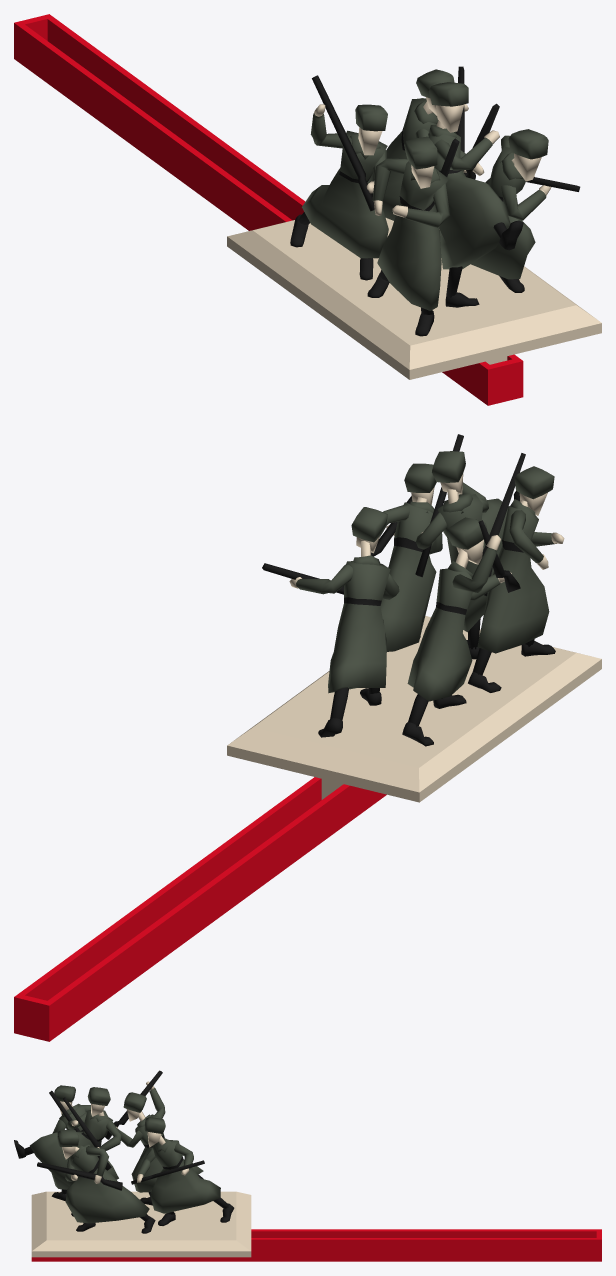
The model's file is SovietSoldier_DoorBuster.fbx.
The picture shows the model from 3 angles, top to bottom: view 1: azimuth 30°, elevation 25°; view 2: azimuth 150°, elevation 25°; view 3: azimuth 270°, elevation 25°; orthographic projection. The views are drawn at different scales.
Parts seen in each view (by area): view 1: mesh_SovietSoldier_DoorBusters; view 2: mesh_SovietSoldier_DoorBusters; view 3: mesh_SovietSoldier_DoorBusters.
Part boxes in pixels (x1,y1,x2,y2): mesh_SovietSoldier_DoorBusters: [14, 14, 601, 405]; mesh_SovietSoldier_DoorBusters: [14, 434, 601, 1041]; mesh_SovietSoldier_DoorBusters: [14, 1070, 601, 1261].
Bounding box in the file's own units: 103 × 139 × 442.
